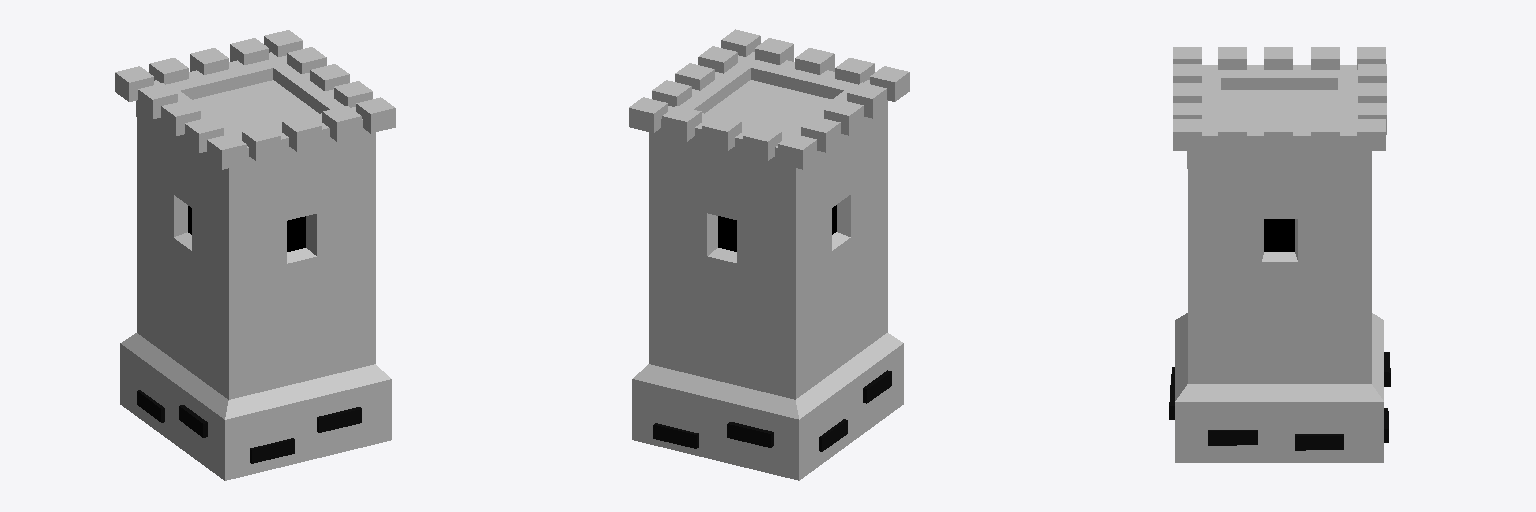
File: WallCorner.obj
The picture shows the model from 3 angles: view 1: azimuth 30°, elevation 25°; view 2: azimuth 150°, elevation 25°; view 3: azimuth 270°, elevation 25°; orthographic projection.
Visible parts, largest first — view 1: SmallSquareTowerBricks_Cube.025; view 2: SmallSquareTowerBricks_Cube.025; view 3: SmallSquareTowerBricks_Cube.025.
Boxes of the visible parts, box(x1,y1,x2,y2) form: SmallSquareTowerBricks_Cube.025: box(115, 30, 395, 480); SmallSquareTowerBricks_Cube.025: box(629, 29, 909, 480); SmallSquareTowerBricks_Cube.025: box(1169, 47, 1390, 462).
Size of the model in its own units: 1.13 by 2.02 by 1.22.